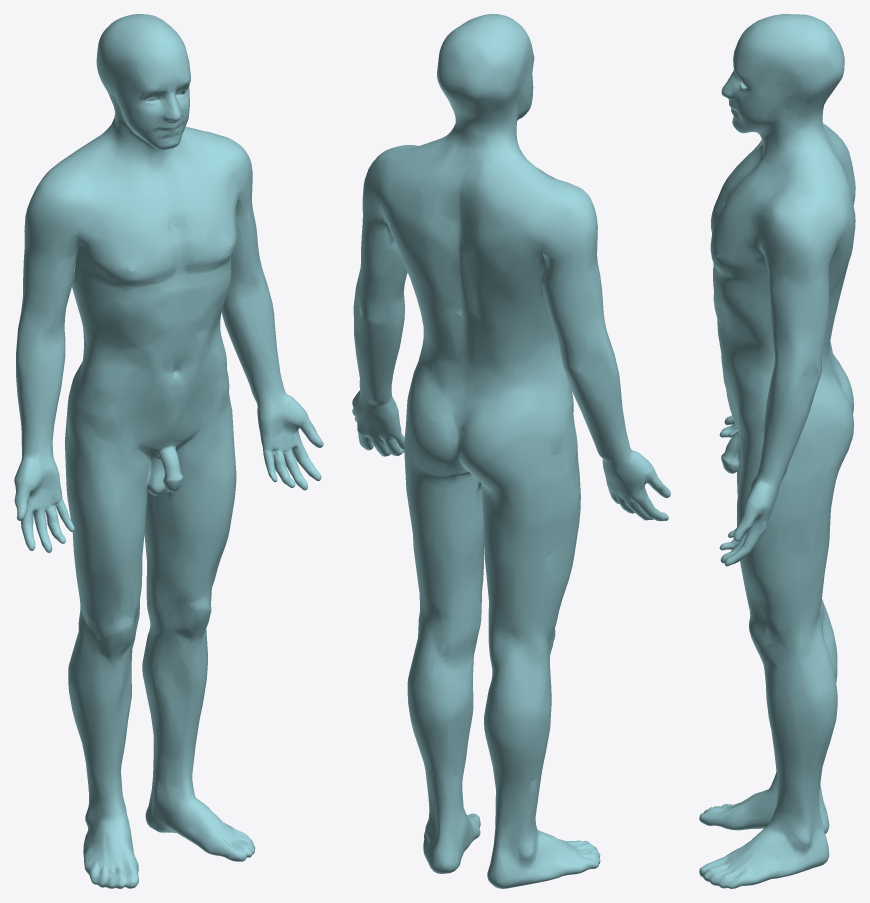
The model's file is skin.glb.
3 renders of one model, left to right at view 1: azimuth 30°, elevation 25°; view 2: azimuth 150°, elevation 25°; view 3: azimuth 270°, elevation 25°, orthographic. The views are drawn at different scales.
Parts seen in each view (by area): view 1: FMA7163; view 2: FMA7163; view 3: FMA7163.
Boxes of the visible parts, <box> form: FMA7163: <box>14,14,323,888</box>; FMA7163: <box>352,14,670,888</box>; FMA7163: <box>699,14,855,888</box>.
Bounding box in the file's own units: 1.4 × 3.6 × 0.6115.
